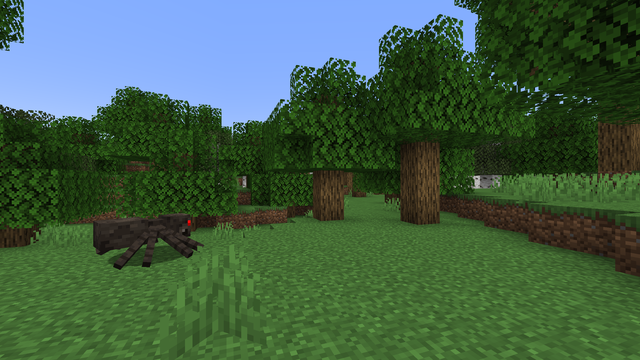araignees: (98, 208, 192, 268)
